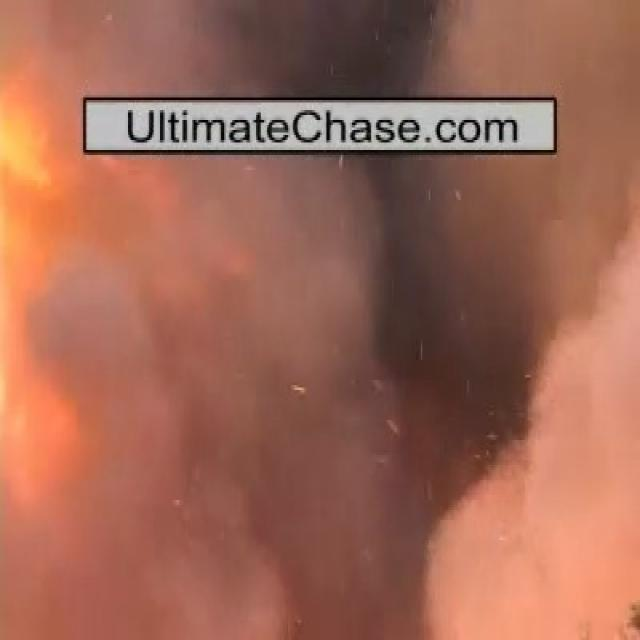smoke: (46, 161, 594, 586), (54, 5, 518, 97)
